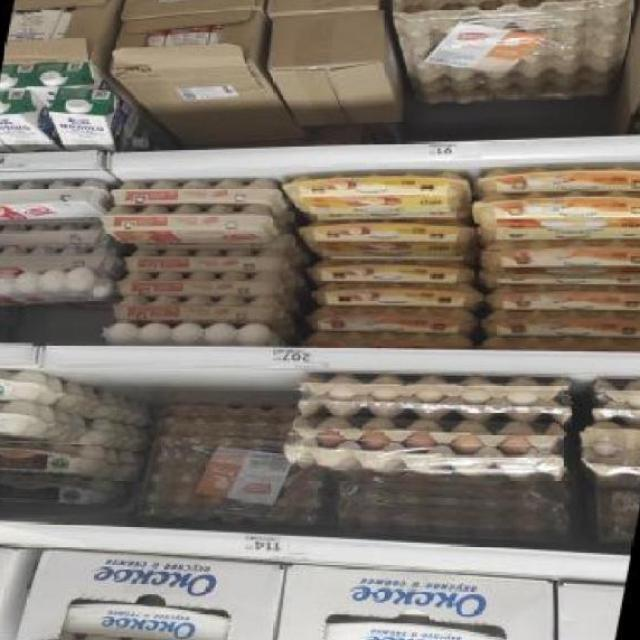Egg: (279, 164, 470, 225), (100, 199, 284, 254), (472, 185, 640, 243), (294, 216, 478, 265), (478, 234, 640, 288), (478, 153, 640, 204), (105, 170, 288, 215), (40, 86, 142, 158), (62, 599, 237, 640), (119, 242, 293, 281), (111, 289, 286, 327), (308, 300, 477, 338), (307, 256, 481, 291), (0, 177, 117, 229), (118, 265, 291, 300), (314, 277, 482, 313), (477, 307, 640, 343), (486, 281, 640, 319), (0, 471, 133, 511), (0, 87, 72, 157), (0, 439, 120, 479), (322, 619, 514, 640), (0, 397, 63, 442), (0, 366, 68, 406), (25, 632, 274, 640)
